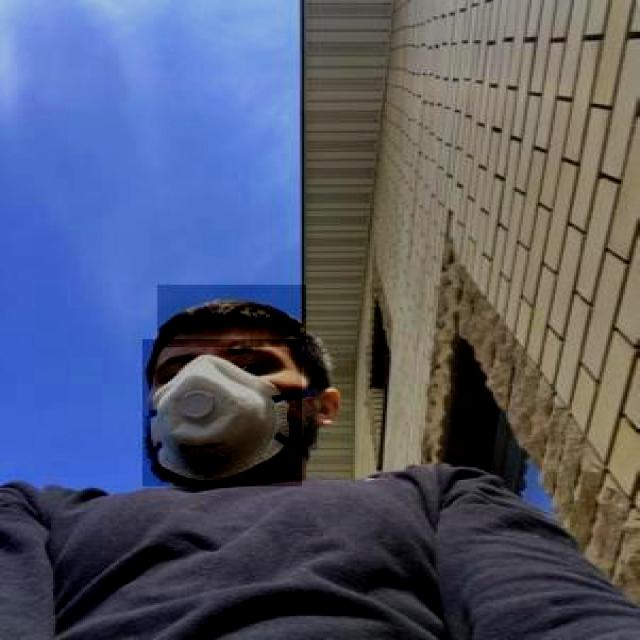face_mask: (143, 339, 304, 488)
head_nohelmet: (158, 285, 308, 347)
person: (4, 277, 614, 640)
